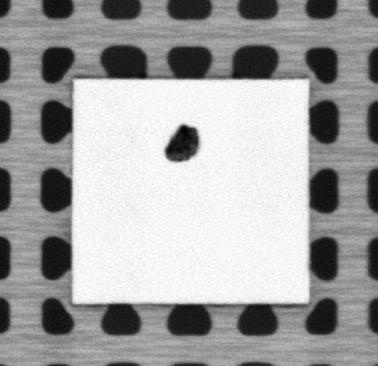DIE_INK: (163, 124, 201, 162)
